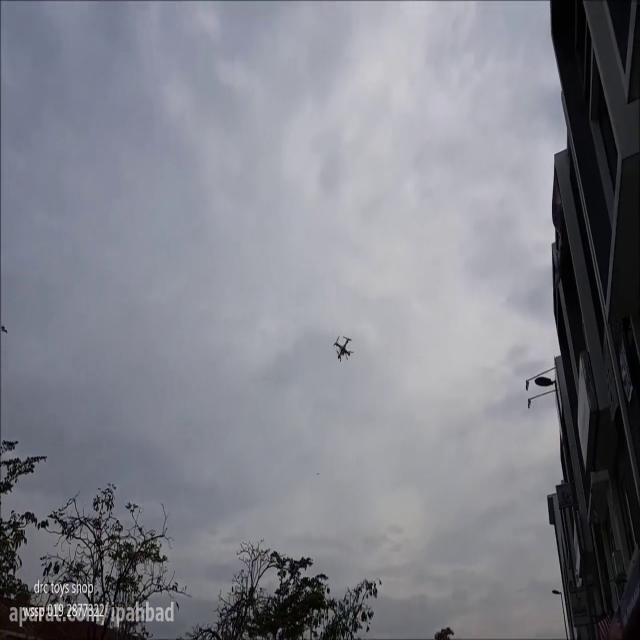drone: (331, 331, 354, 365)
